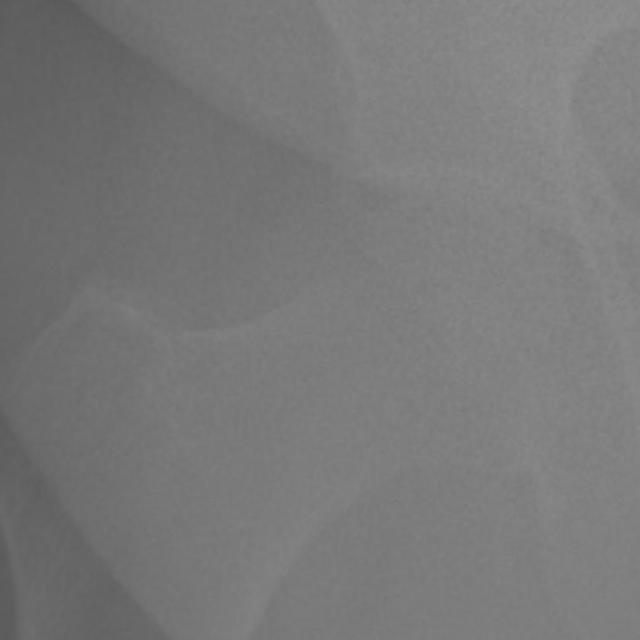Fitted_femural_head: (300, 195, 432, 300)
